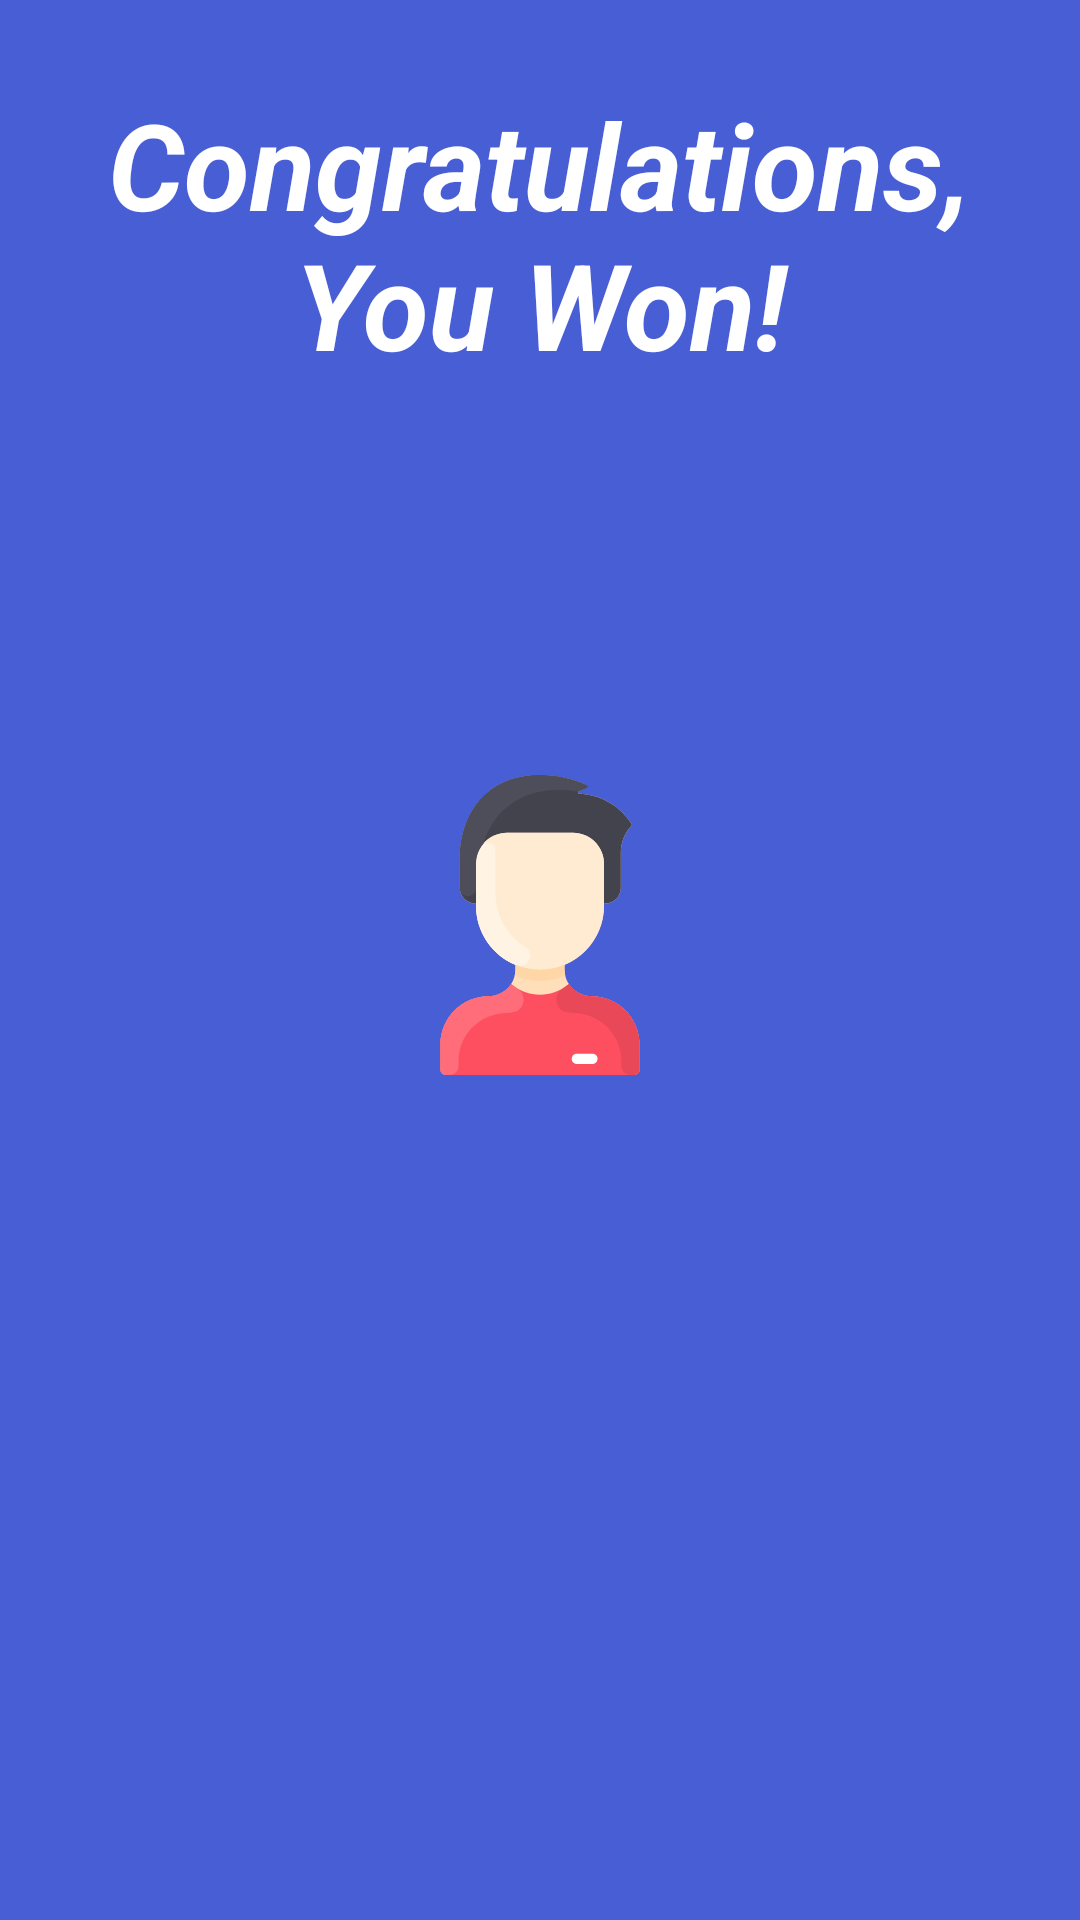

Icons on this 1080px×1920px Android screen, each with its box as (x1, y1, x2, y2):
man: (440, 775, 640, 1075)
